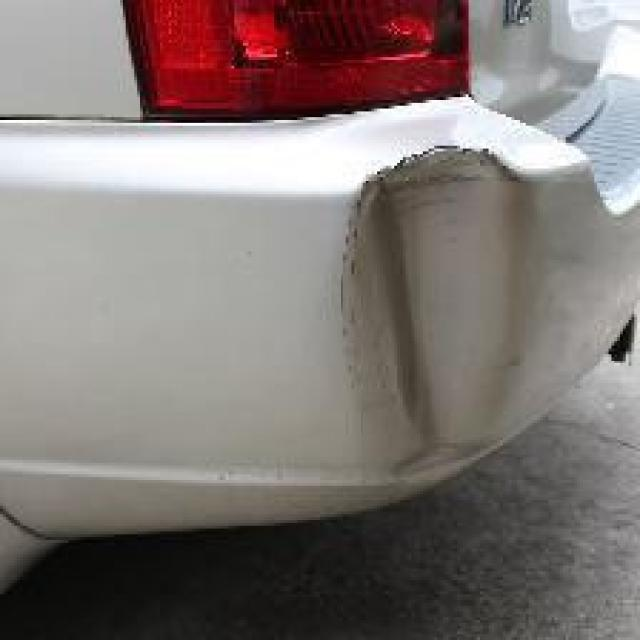damaged: (337, 146, 546, 486)
